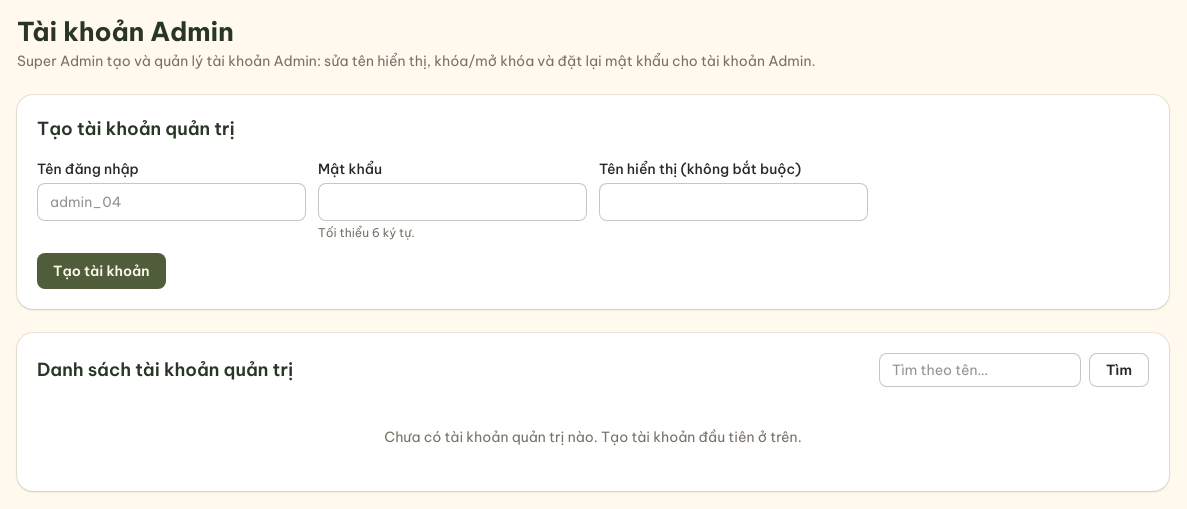
Test case: AdminAccountsPage (UC10 – Super Admin quản lý tài khoản Admin) › shows inline field errors returned by the backend
The width and height of the screenshot is (1187, 509).
Step 1. Type "admin_02" into the field labelled "Tên đăng nhập" → coordinates (172, 202), box [37,183,306,221]
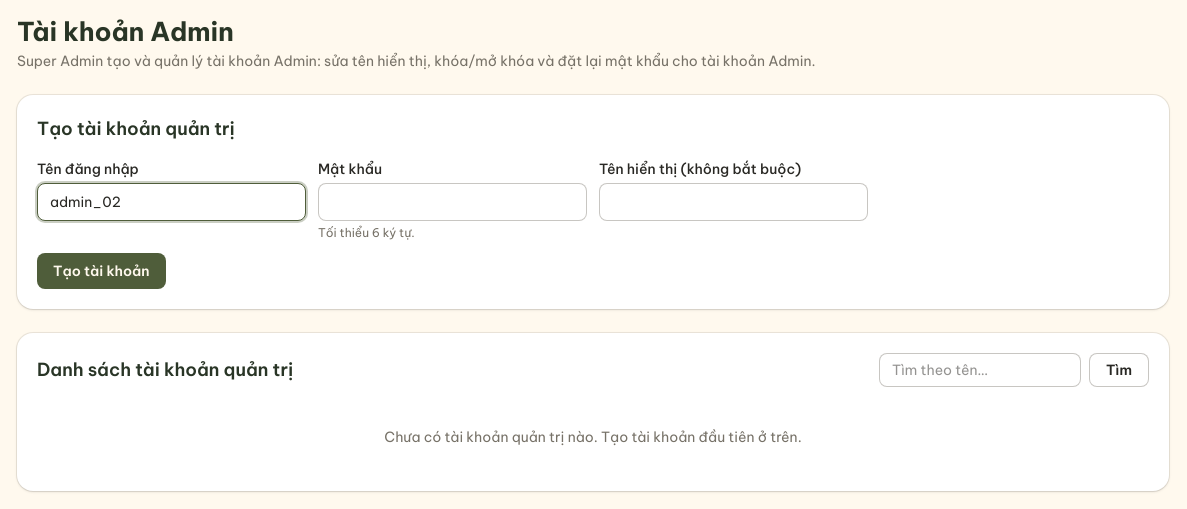
Step 2. Type "secret-123" into the password field labelled "Mật khẩu" → coordinates (452, 202), box [318,183,587,221]
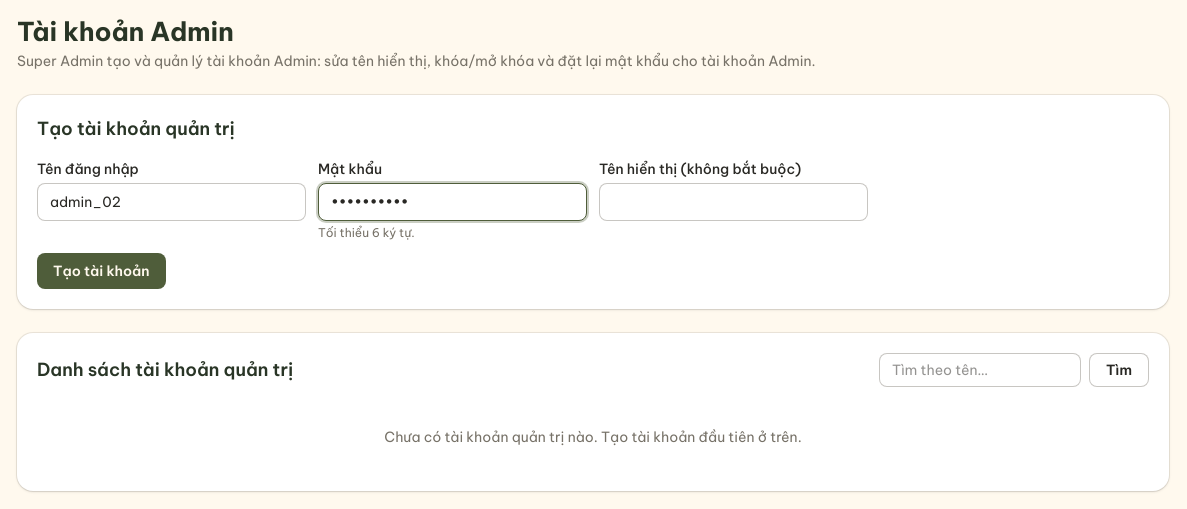
Step 3. Click the button "Tạo tài khoản" → coordinates (101, 271), box [37,253,166,289]
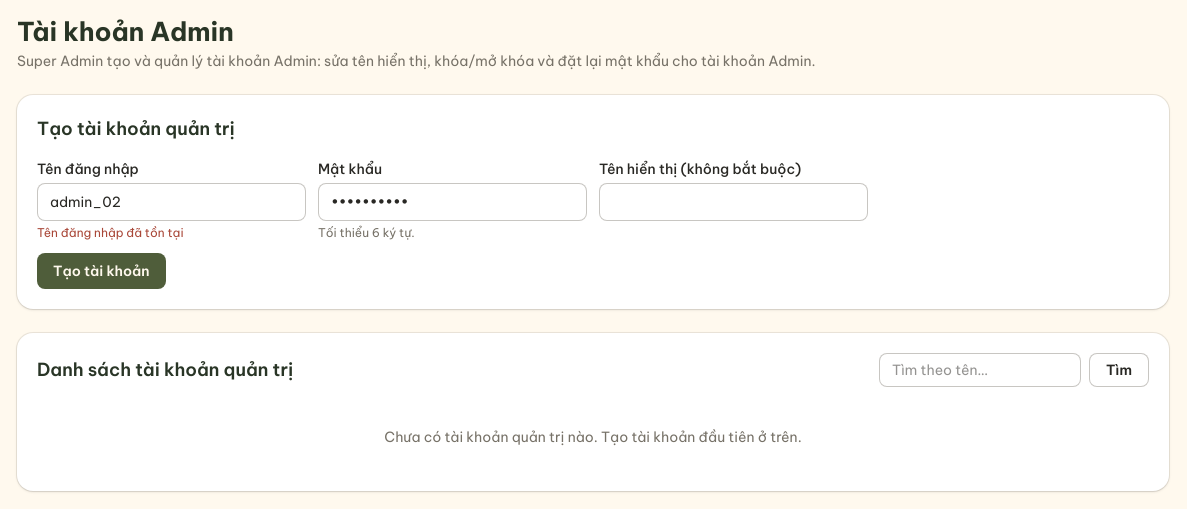
Result: the text "Tên đăng nhập đã tồn tại" is shown at [37,225,184,240]
